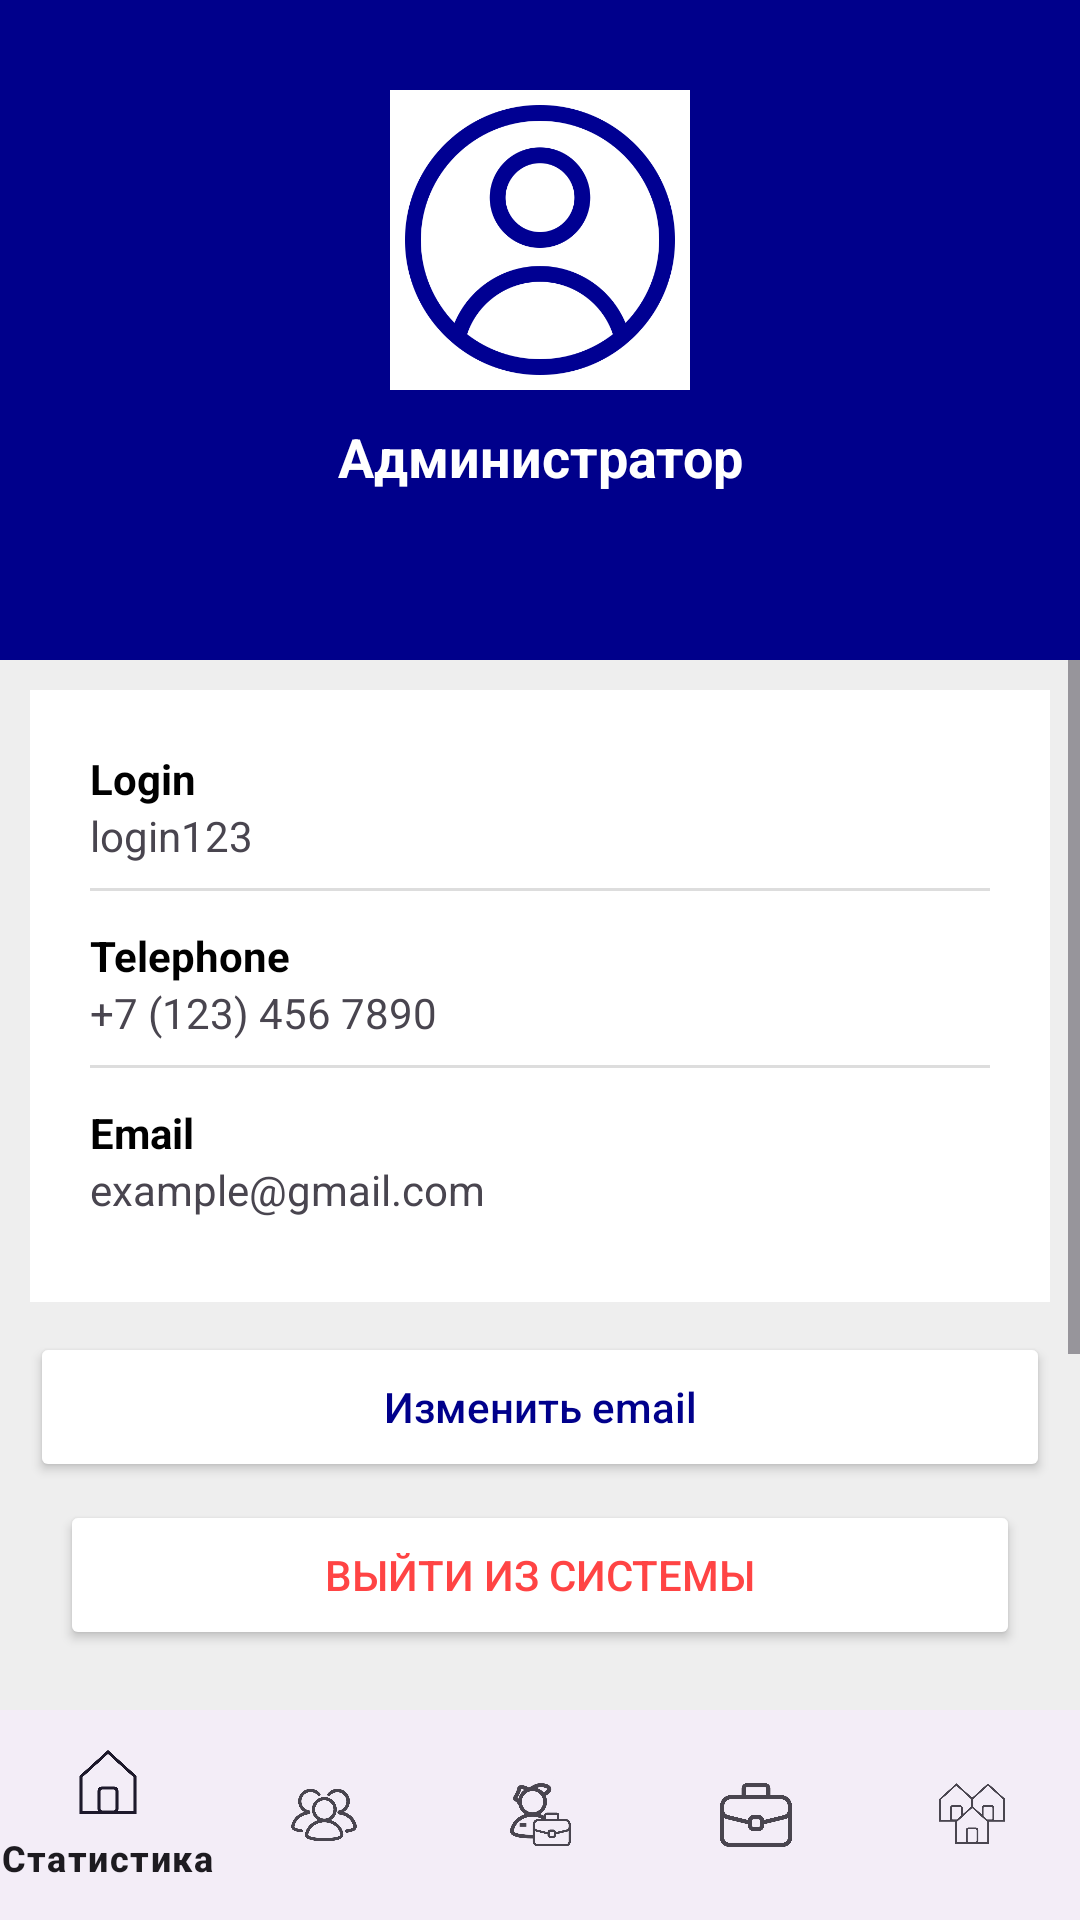

Named icons in this screenshot (1080×1920) and their centers, point (x, y):
profile: point (540, 240)
